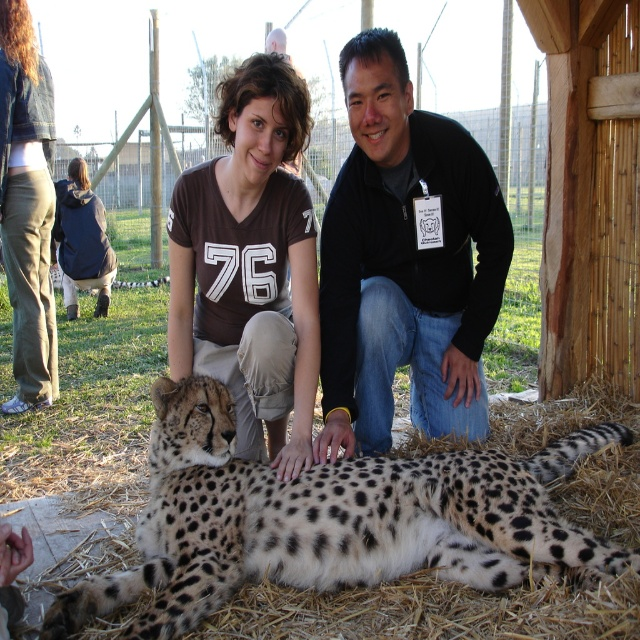Cheetah: (38, 369, 640, 639)
